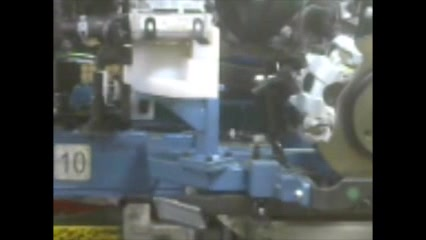DD2: (364, 31, 373, 179)
P2: (285, 31, 365, 147)
